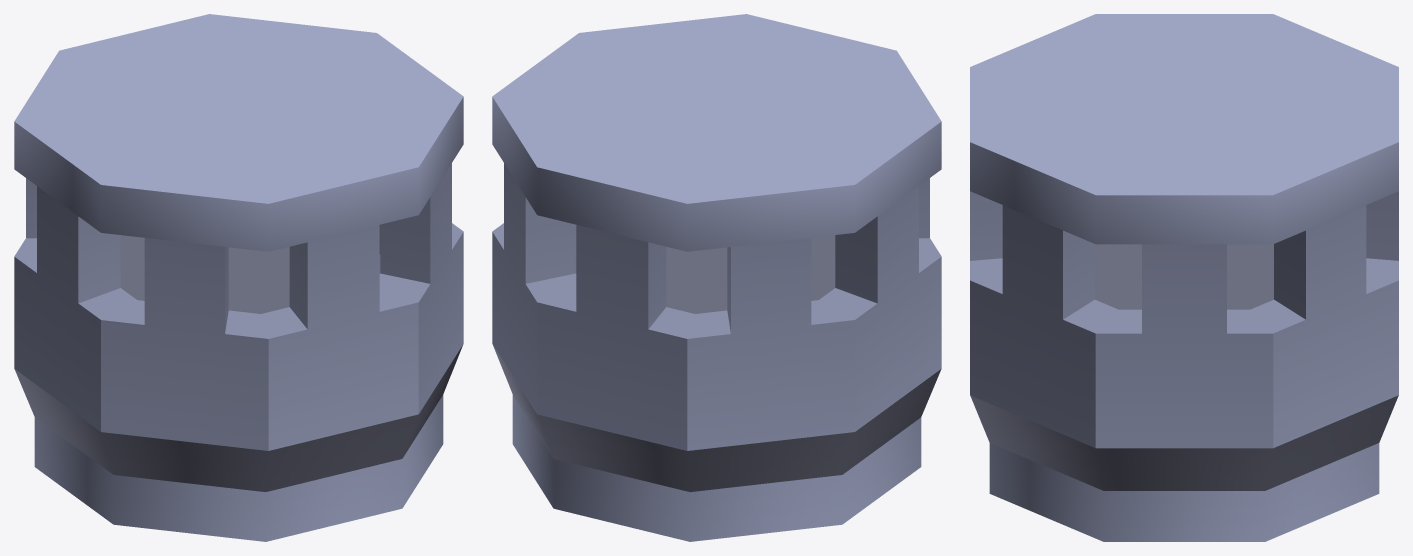
File: watchtower_0.fbx
3 views of the same model, side by side, from view 1: azimuth 30°, elevation 25°; view 2: azimuth 150°, elevation 25°; view 3: azimuth 270°, elevation 25° (orthographic). The views are drawn at different scales.
Visible parts, largest first — view 1: watchtower_0; view 2: watchtower_0; view 3: watchtower_0.
Part boxes in pixels (x1,y1,x2,y2): watchtower_0: (14, 14, 463, 541); watchtower_0: (492, 14, 941, 541); watchtower_0: (970, 14, 1398, 541).
Size of the model in its own units: 3.05 by 2.79 by 3.05.
1 material, 1 textured.
